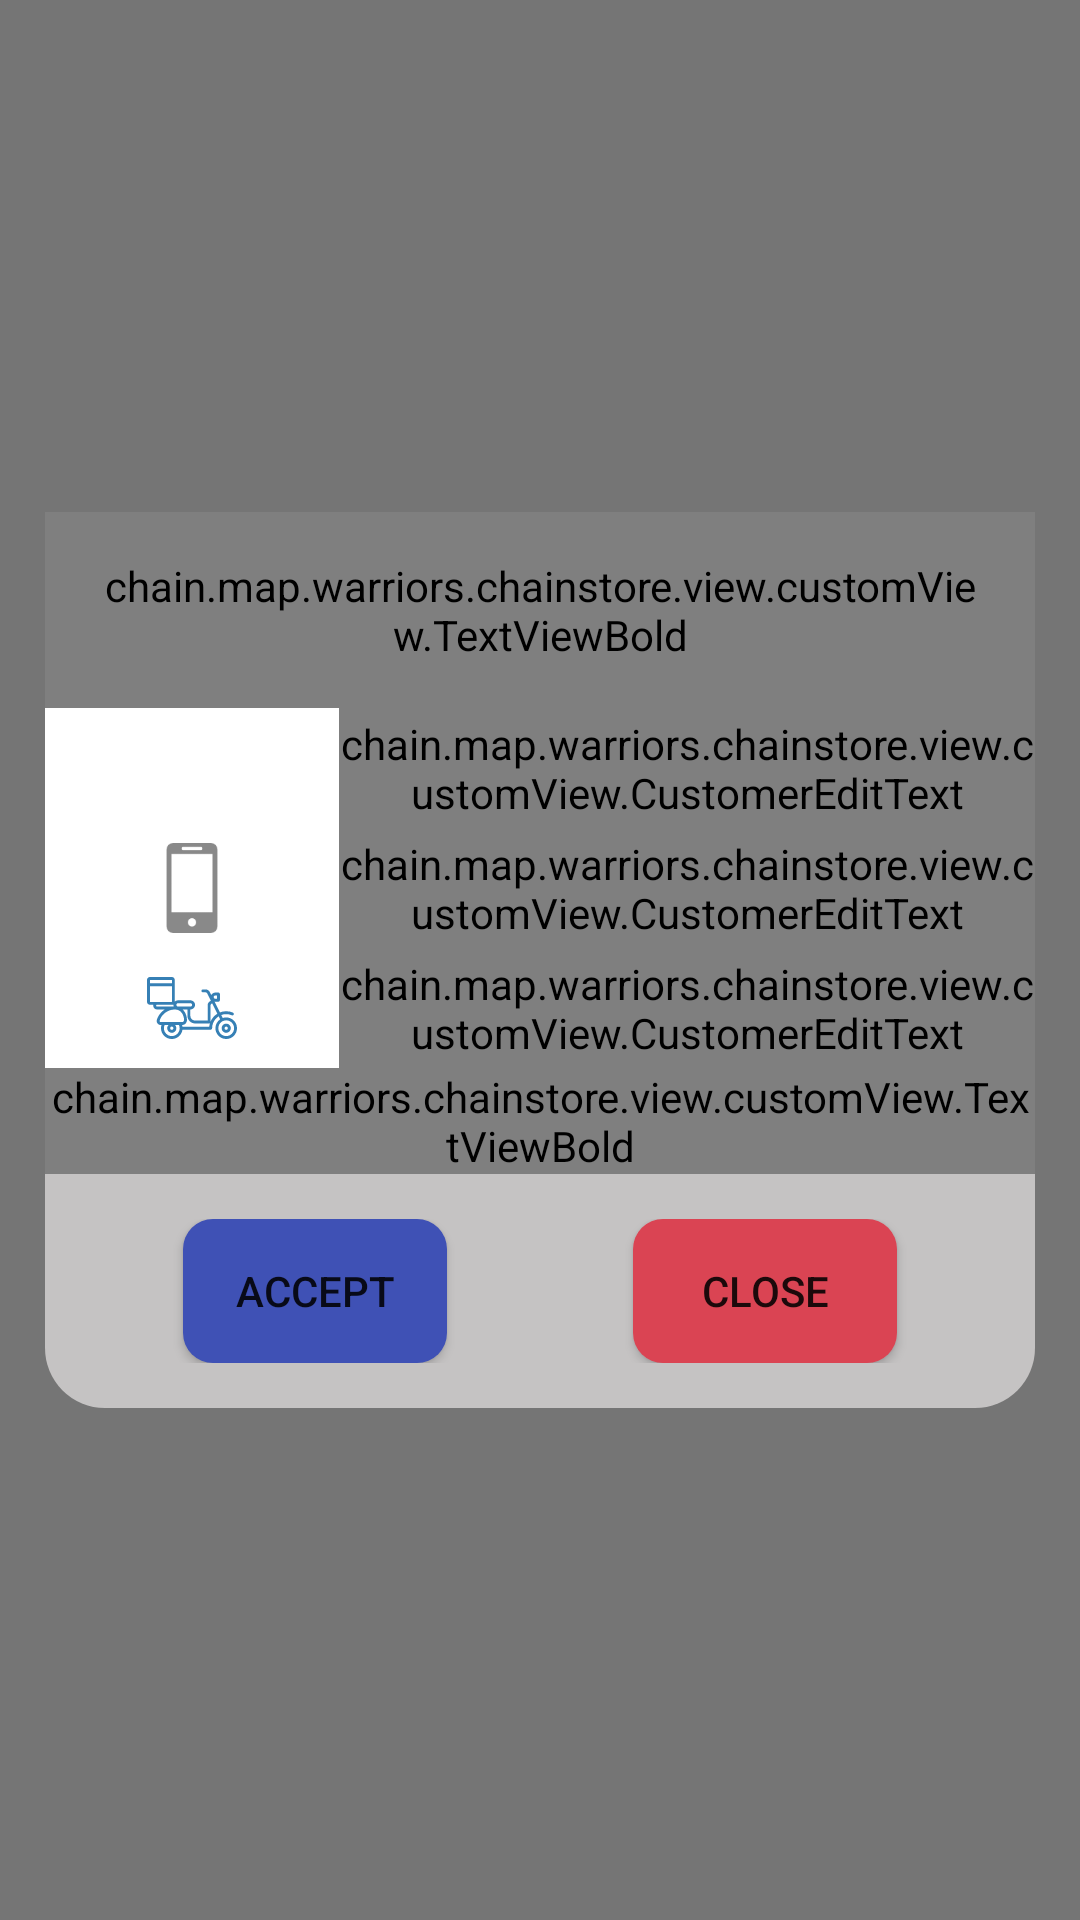

Where icons sit on this 1080 x 1920 app screen, as (x1, y1, x2, y2):
shipper: (147, 977, 237, 1039)
